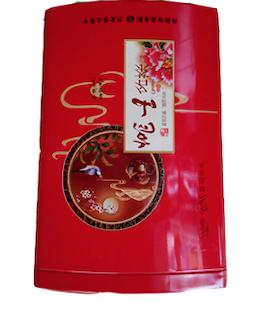ImgView: (1, 1, 271, 319)
